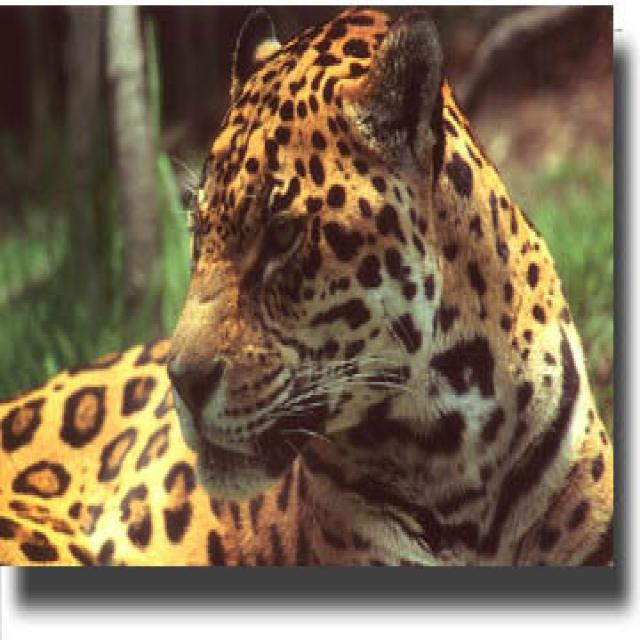Leopard: (0, 0, 612, 577)
